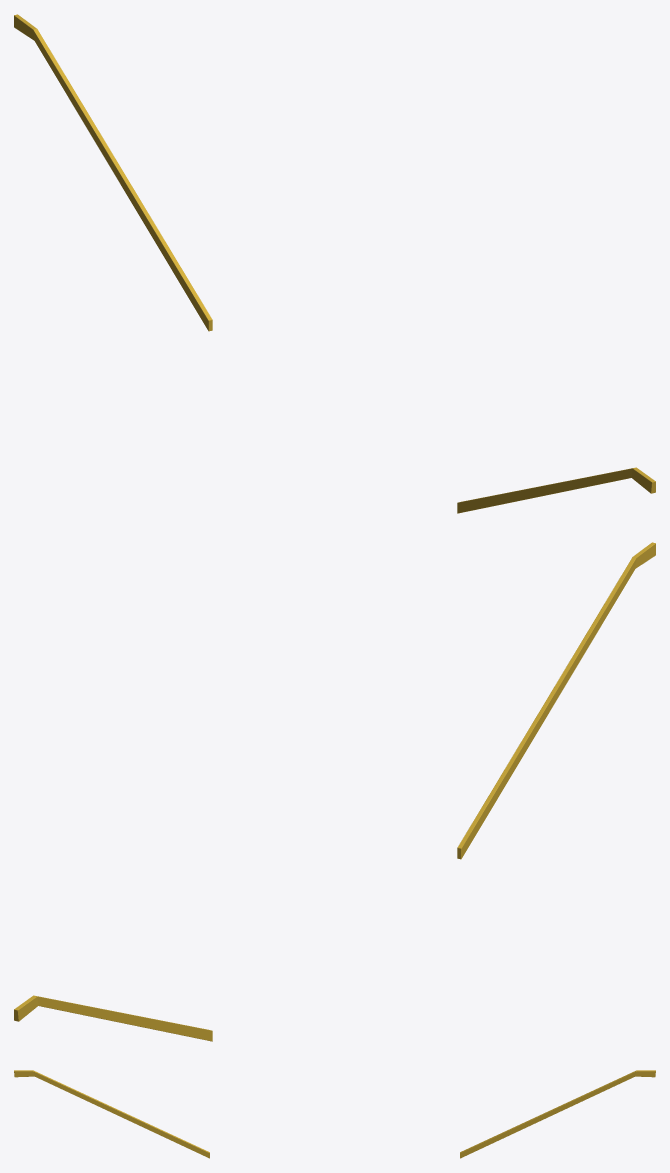
Rendered from MiddleStairWayMidRailing.fbx.
3 views of the same model, one above another, from view 1: azimuth 30°, elevation 25°; view 2: azimuth 150°, elevation 25°; view 3: azimuth 270°, elevation 25° (orthographic). The views are drawn at different scales.
Parts seen in each view (by area): view 1: Cube.016; view 2: Cube.016; view 3: Cube.016.
Boxes of the visible parts, bbox=[...] form: Cube.016: bbox=[14, 14, 655, 513]; Cube.016: bbox=[14, 542, 655, 1041]; Cube.016: bbox=[14, 1070, 655, 1158].
Bounding box in the file's own units: 28.15 × 952 × 6335.
